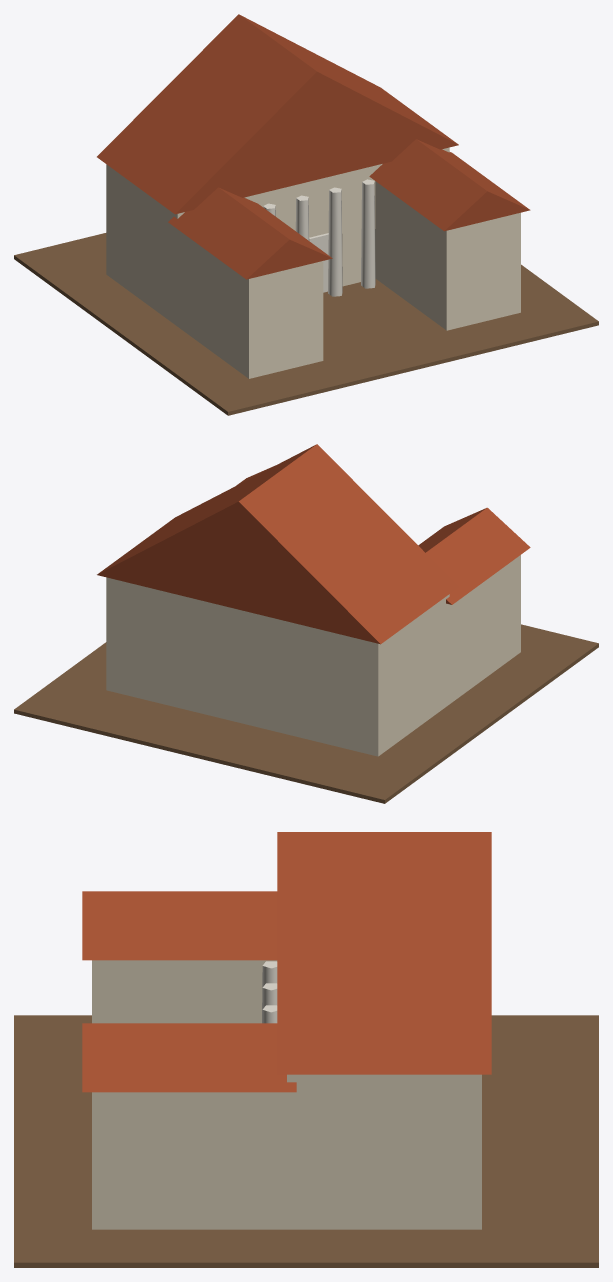
Rendered from bld_special_hospital_a02_lod2.glb.
The picture shows the model from 3 angles, top to bottom: view 1: azimuth 30°, elevation 25°; view 2: azimuth 150°, elevation 25°; view 3: azimuth 270°, elevation 25°; orthographic projection. The views are drawn at different scales.
Parts seen in each view (by area): view 1: body; view 2: body; view 3: body.
Part boxes in pixels (x1=…): body: x1=14, y1=14, x2=598, y2=415; body: x1=14, y1=444, x2=598, y2=803; body: x1=14, y1=832, x2=598, y2=1267.
Size of the model in its own units: 15 by 8.83 by 15.
